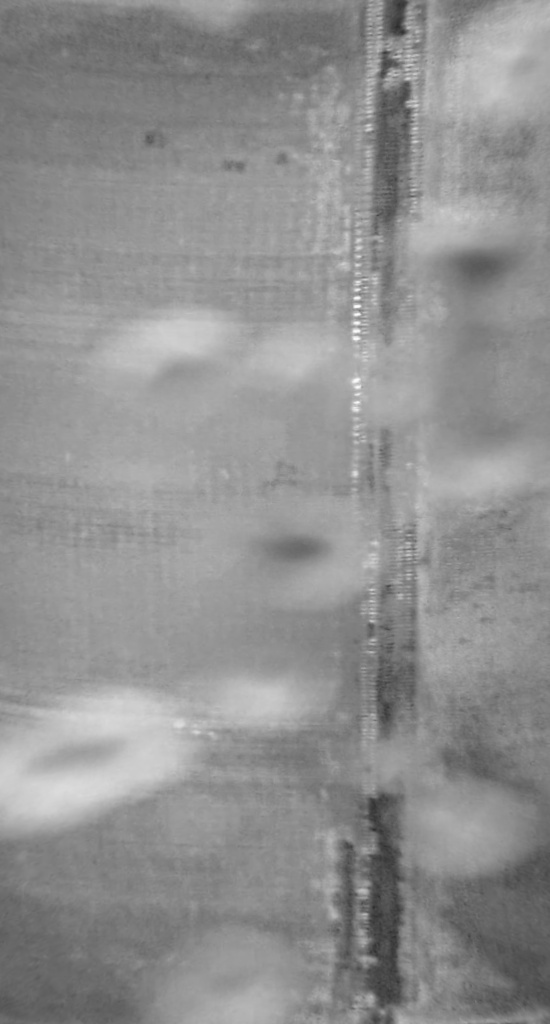splice: (339, 1, 436, 1023)
